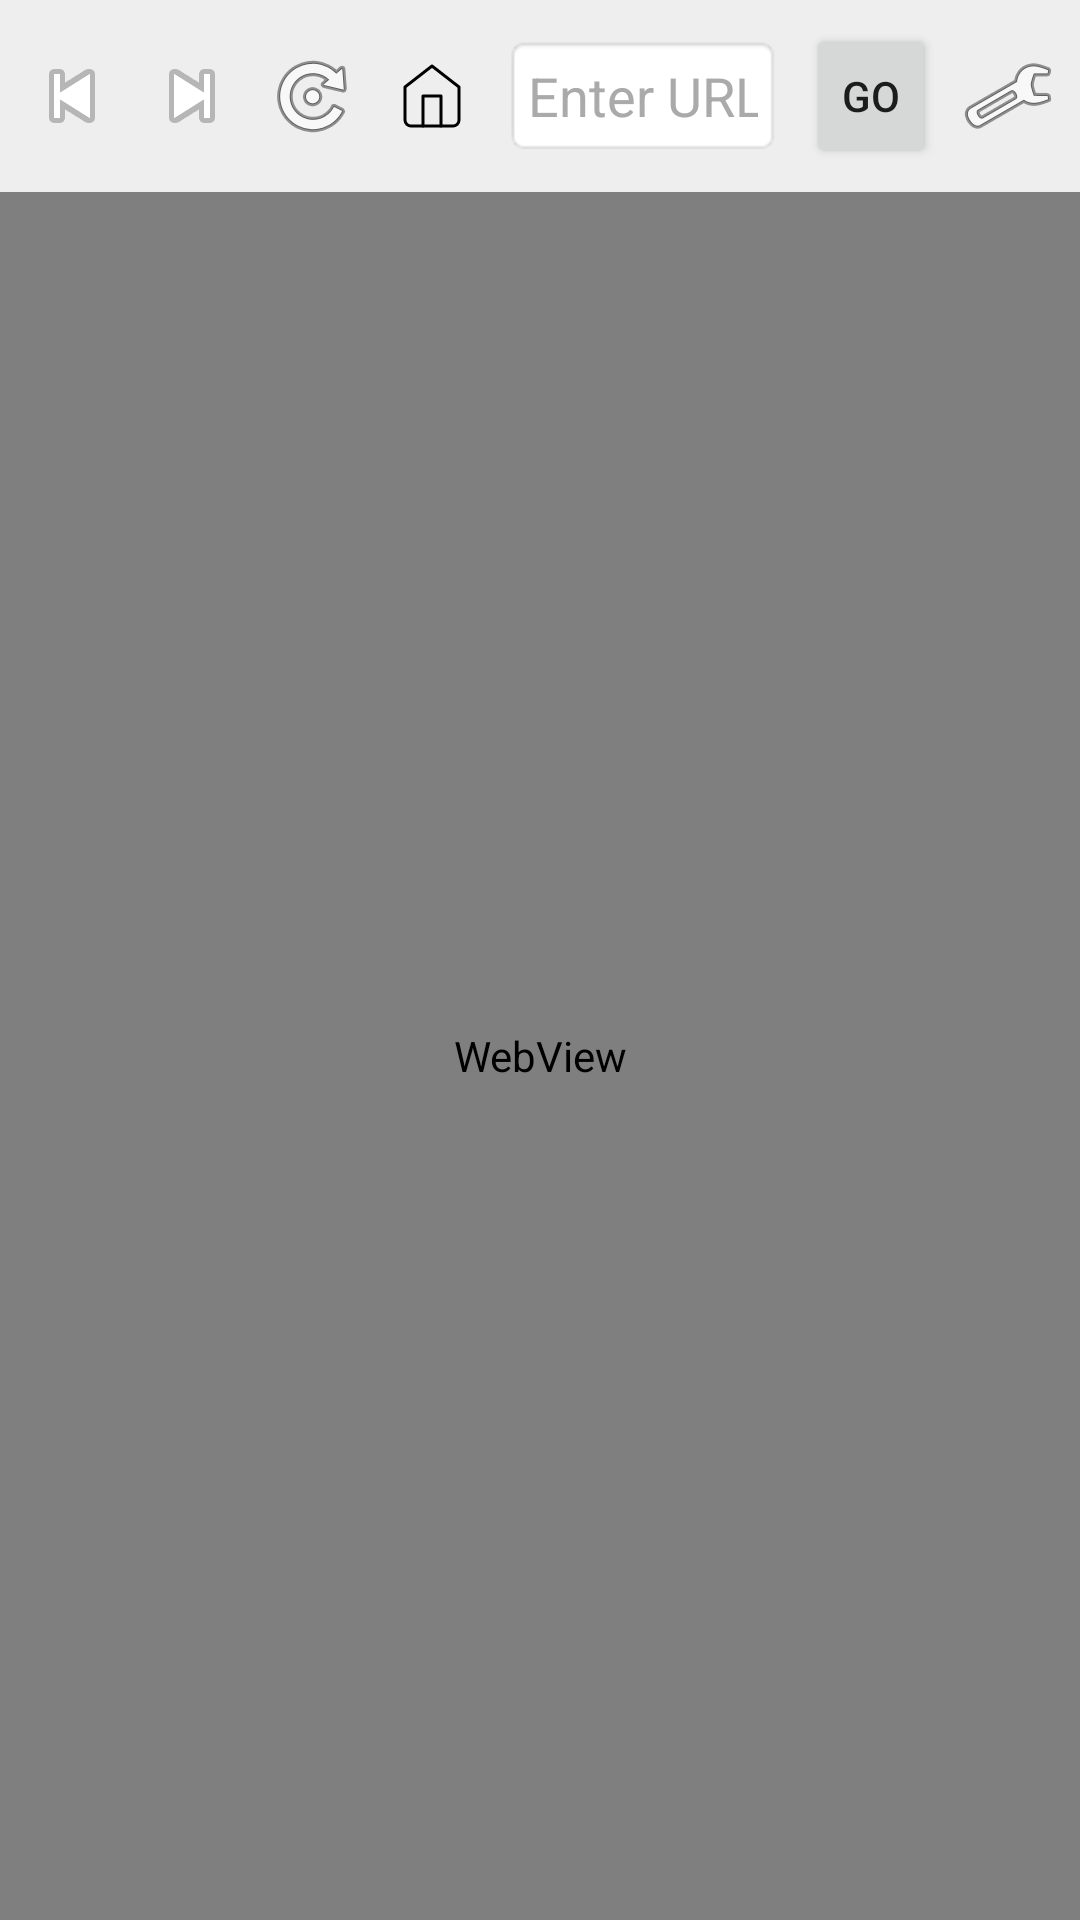

Named icons in this screenshot (1080w x 1920h) and their centers, (x=x, y=y):
Back: (x=72, y=96)
Forward: (x=192, y=96)
Home: (x=432, y=96)
Refresh: (x=312, y=96)
Settings: (x=1008, y=96)
